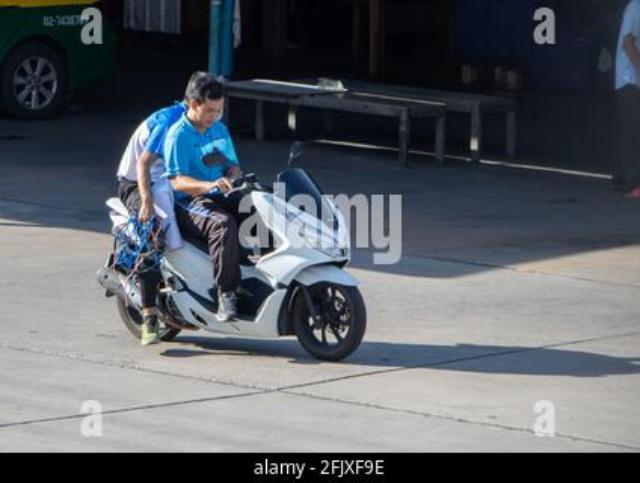motor: (96, 140, 368, 365)
non-helm: (187, 77, 226, 125)
